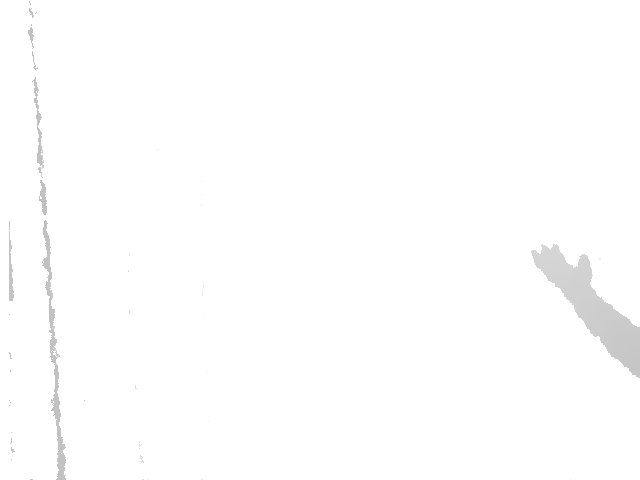hand: (532, 244, 595, 294)
person: (531, 244, 640, 381)
